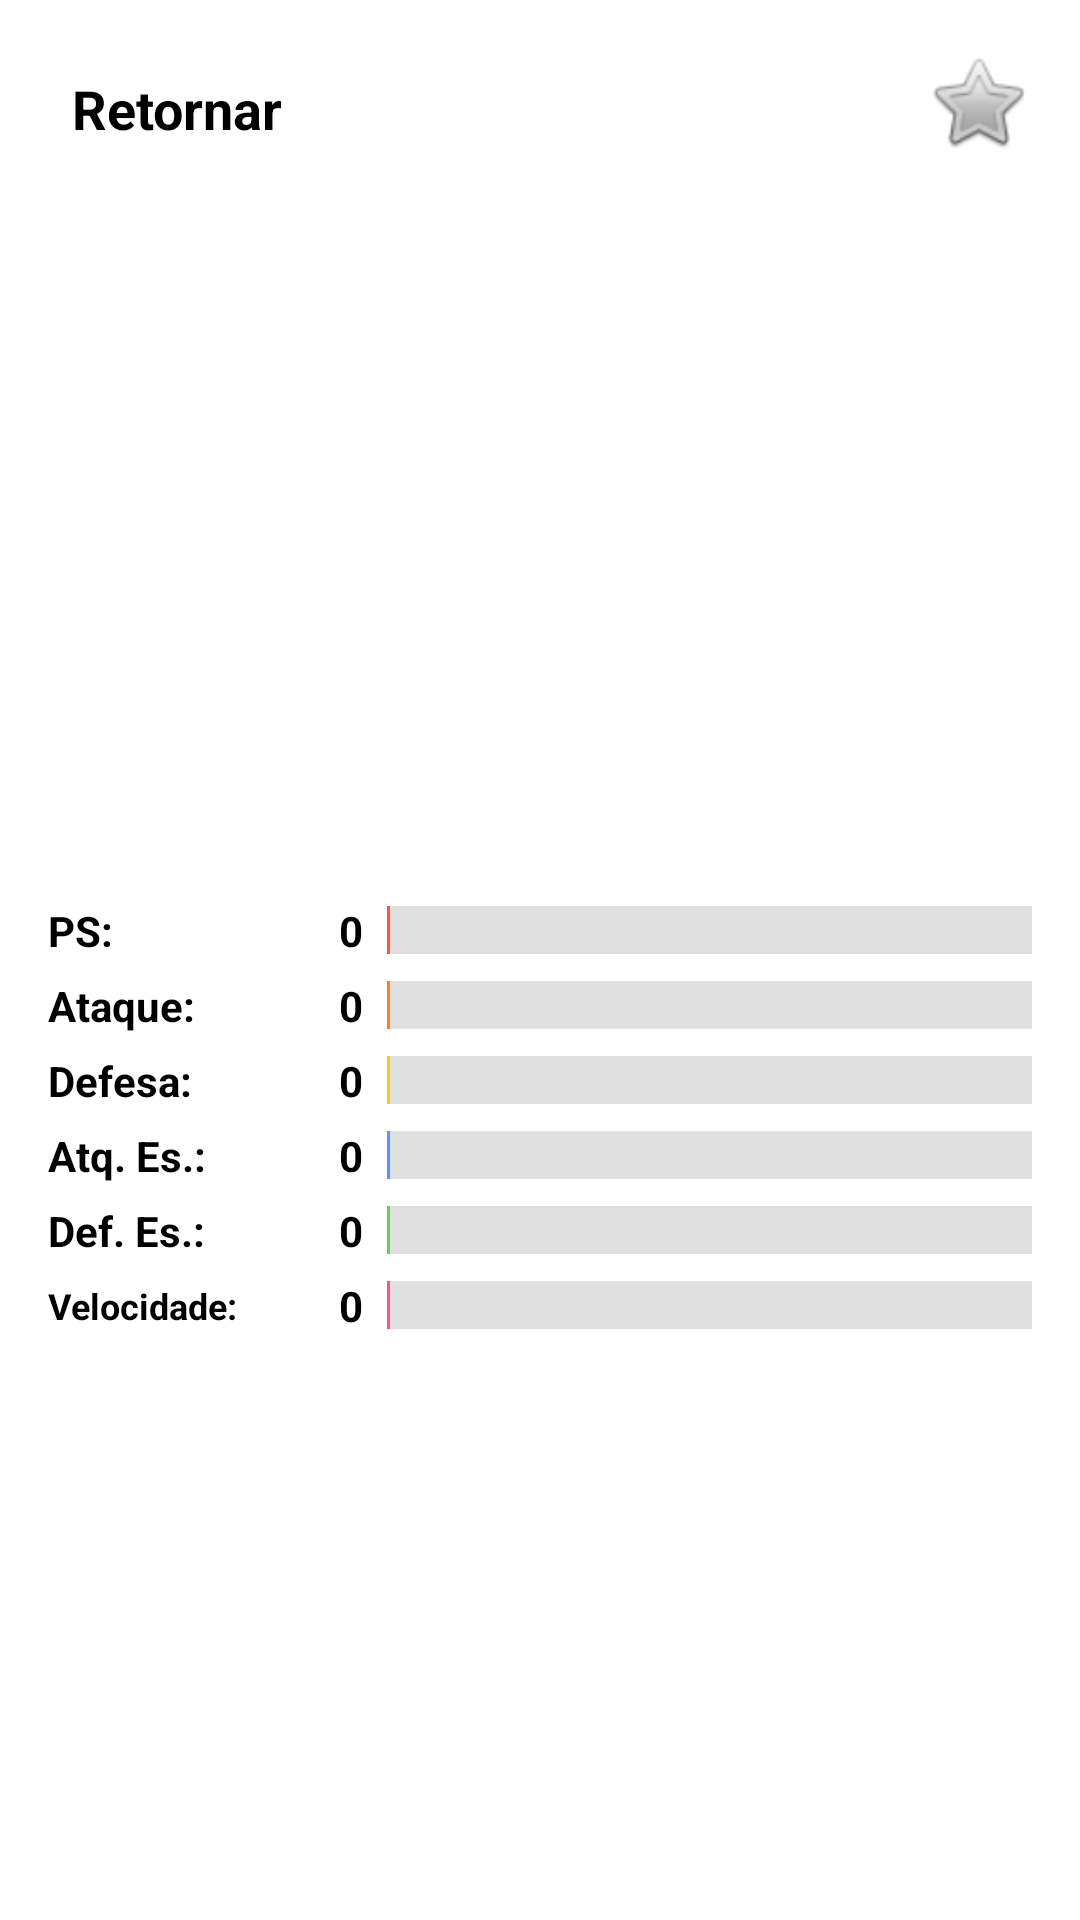

Icon bounding boxes for this 1080 x 1920 phone screenshot, format {"left": x1, "top": y1, "right": x2, "bottom": y2}:
star off: {"left": 934, "top": 59, "right": 1024, "bottom": 147}
